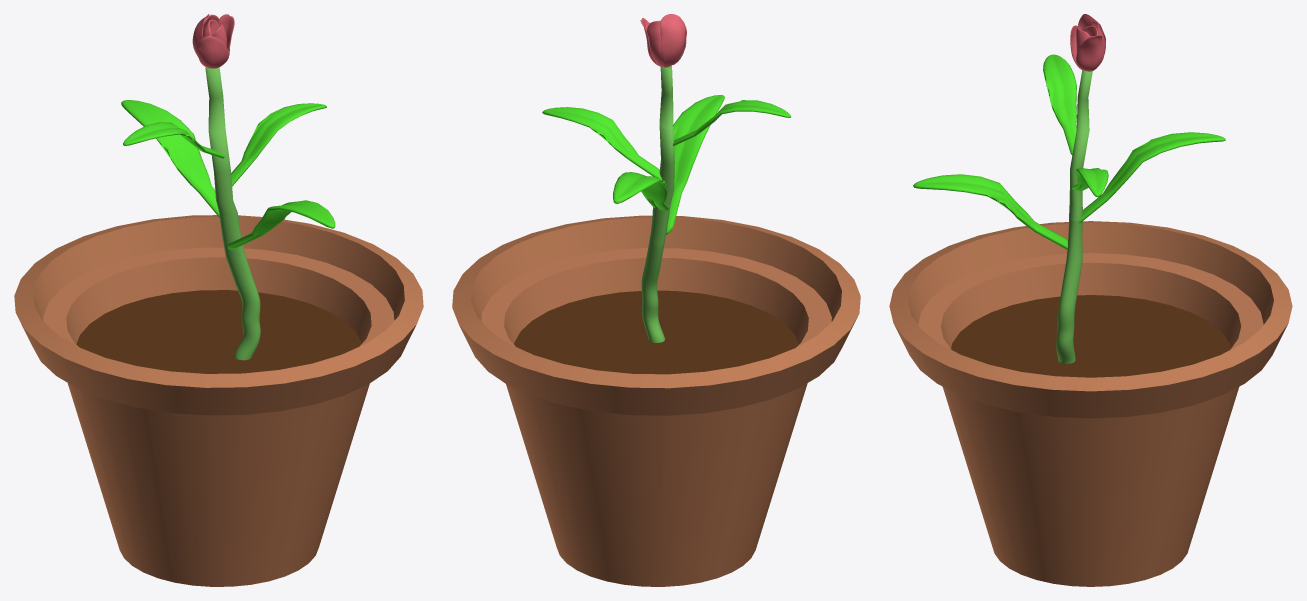
File: flower.fbx
The picture shows the model from 3 angles, left to right: view 1: azimuth 30°, elevation 25°; view 2: azimuth 150°, elevation 25°; view 3: azimuth 270°, elevation 25°; orthographic projection.
Visible parts, largest first — view 1: Plant Pot, Plane, Cylinder.001, node_id30, Plane.001; view 2: Plant Pot, Plane, Cylinder.001, Plane.001, node_id30; view 3: Plant Pot, Plane, Cylinder.001, Plane.001, node_id30.
Boxes of the visible parts, bbox=[...] form: Plant Pot: bbox=[14, 215, 423, 586]; Plane: bbox=[121, 100, 326, 217]; Cylinder.001: bbox=[205, 67, 260, 360]; node_id30: bbox=[192, 14, 234, 68]; Plane.001: bbox=[228, 200, 335, 249]; Plant Pot: bbox=[452, 215, 860, 586]; Plane: bbox=[542, 100, 791, 210]; Cylinder.001: bbox=[641, 65, 674, 342]; Plane.001: bbox=[666, 95, 724, 234]; node_id30: bbox=[640, 14, 686, 67]; Plant Pot: bbox=[889, 221, 1292, 586]; Plane: bbox=[1043, 54, 1225, 223]; Cylinder.001: bbox=[1056, 70, 1092, 363]; Plane.001: bbox=[913, 174, 1067, 249]; node_id30: bbox=[1070, 14, 1105, 71].
Bounding box in the file's own units: 535 × 773 × 535.
